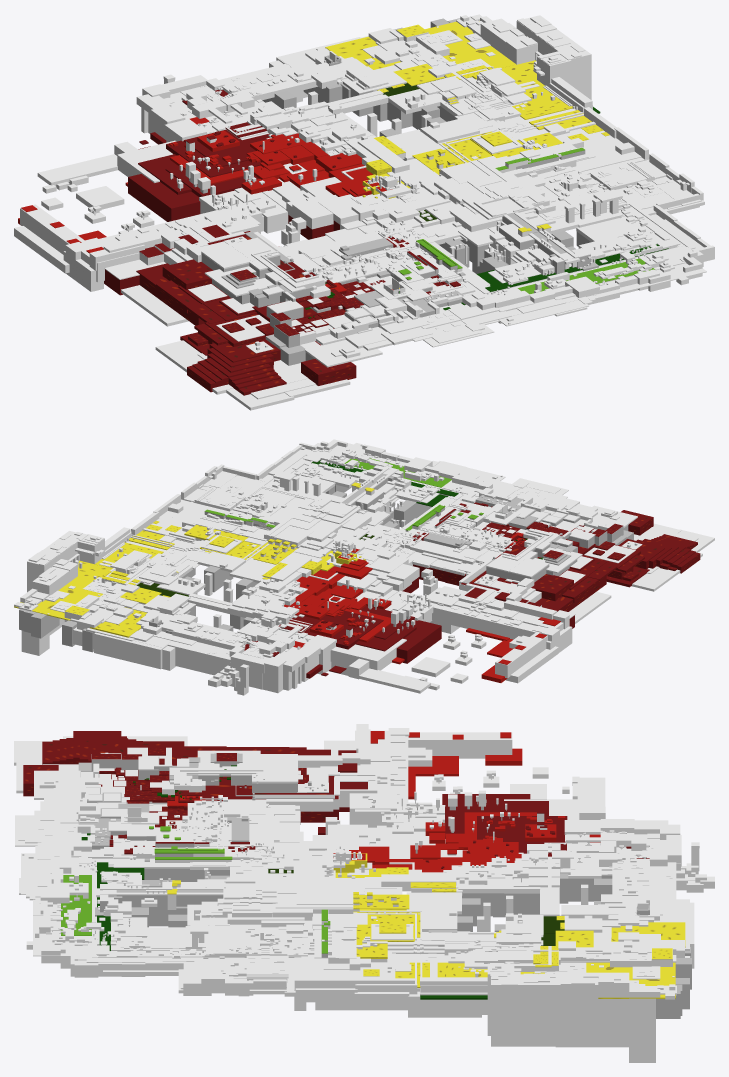
The model's file is Cubes ParentFinal.fbx.
3 renders of one model, top to bottom at view 1: azimuth 30°, elevation 25°; view 2: azimuth 150°, elevation 25°; view 3: azimuth 270°, elevation 25°, orthographic. The views are drawn at different scales.
Parts seen in each view (by area): view 1: Cube_Ref_Clone__1845, polySurface8, Cube_Ref_Clone__1454, Cube_Ref_Clone__2758; view 2: polySurface8, Cube_Ref_Clone__1454, Cube_Ref_Clone__1845, Cube_Ref_Clone__2758; view 3: polySurface8, Cube_Ref_Clone__1454, Cube_Ref_Clone__2758, Cube_Ref_Clone__1845.
Boxes of the visible parts, bbox=[...] form: Cube_Ref_Clone__1845: bbox=[121, 216, 525, 410]; polySurface8: bbox=[219, 14, 620, 194]; Cube_Ref_Clone__1454: bbox=[14, 74, 446, 295]; Cube_Ref_Clone__2758: bbox=[380, 127, 714, 326]; polySurface8: bbox=[14, 509, 344, 675]; Cube_Ref_Clone__1454: bbox=[208, 534, 575, 695]; Cube_Ref_Clone__1845: bbox=[366, 475, 714, 623]; Cube_Ref_Clone__2758: bbox=[153, 439, 515, 551]; polySurface8: bbox=[275, 856, 694, 1062]; Cube_Ref_Clone__1454: bbox=[267, 724, 714, 914]; Cube_Ref_Clone__2758: bbox=[19, 815, 357, 1010]; Cube_Ref_Clone__1845: bbox=[14, 731, 339, 885].
Bounding box in the file's own units: 70938 × 10370 × 72363.
